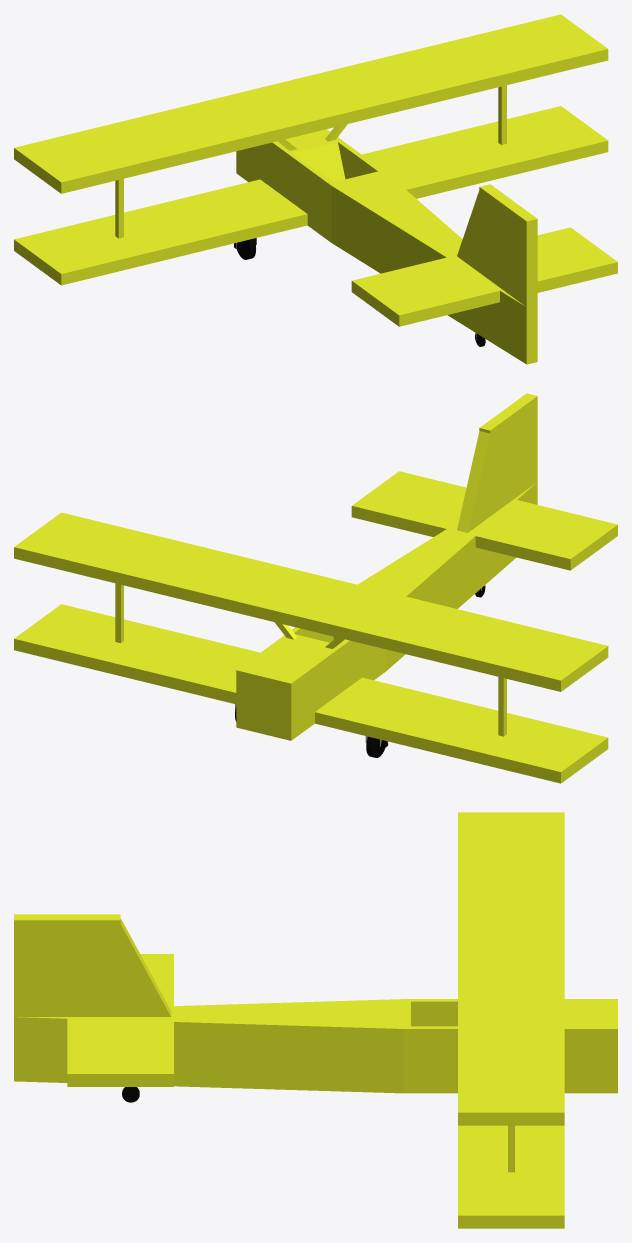
3 renders of one model, top to bottom at view 1: azimuth 30°, elevation 25°; view 2: azimuth 150°, elevation 25°; view 3: azimuth 270°, elevation 25°, orthographic. The views are drawn at different scales.
Visible parts, largest first — view 1: Wing_2, Wing_1, Cube, Back_Wing, Cube.001, Keel, Keel_2, Wing_Support_2, Wing_Support; view 2: Wing_2, Wing_1, Back_Wing, Cube.001, Cube, Keel, Keel_2, Wing_Support, Wing_Support_2; view 3: Wing_2, Cube, Keel, Wing_1, Cube.001, Back_Wing, Keel_2.
Part boxes in pixels (x1=…): Wing_2: x1=14, y1=14, x2=608, y2=193; Wing_1: x1=14, y1=106, x2=608, y2=285; Cube: x1=331, y1=172, x2=537, y2=364; Back_Wing: x1=351, y1=227, x2=617, y2=326; Cube.001: x1=236, y1=129, x2=385, y2=242; Keel: x1=479, y1=184, x2=537, y2=364; Keel_2: x1=457, y1=188, x2=480, y2=272; Wing_Support_2: x1=115, y1=143, x2=123, y2=238; Wing_Support: x1=498, y1=50, x2=506, y2=144; Wing_2: x1=14, y1=512, x2=608, y2=691; Wing_1: x1=14, y1=604, x2=608, y2=783; Back_Wing: x1=351, y1=471, x2=617, y2=570; Cube.001: x1=236, y1=627, x2=385, y2=740; Cube: x1=358, y1=482, x2=537, y2=670; Keel: x1=479, y1=393, x2=537, y2=515; Keel_2: x1=457, y1=430, x2=491, y2=532; Wing_Support: x1=115, y1=548, x2=123, y2=642; Wing_Support_2: x1=498, y1=641, x2=506, y2=736; Wing_2: x1=458, y1=812, x2=564, y2=1125; Cube: x1=14, y1=999, x2=404, y2=1093; Keel: x1=14, y1=914, x2=120, y2=1016; Wing_1: x1=458, y1=1125, x2=564, y2=1228; Cube.001: x1=404, y1=999, x2=617, y2=1093; Back_Wing: x1=67, y1=954, x2=173, y2=1086; Keel_2: x1=118, y1=918, x2=171, y2=1016.
Bounding box in the file's own units: 10 × 3.21 × 8.5.
